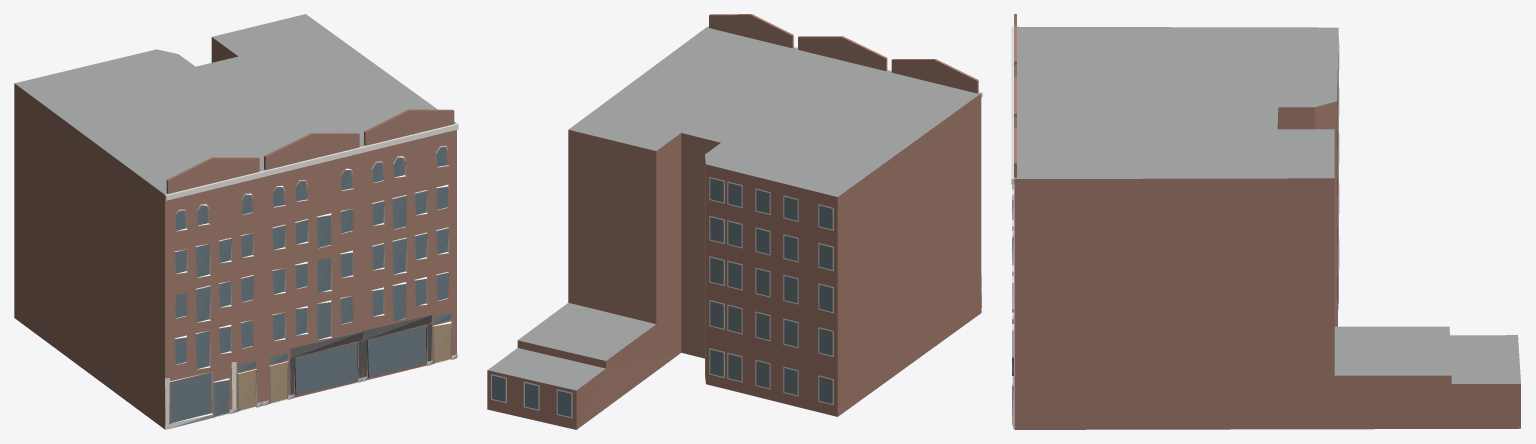
File: chunk-face-bilder-233645-236975.lod2.glb
3 renders of one model, left to right at view 1: azimuth 30°, elevation 25°; view 2: azimuth 150°, elevation 25°; view 3: azimuth 270°, elevation 25°, orthographic. The views are drawn at different scales.
Visible parts, largest first — view 1: lod2; view 2: lod2; view 3: lod2.
Part boxes in pixels (x1,y1,x2,y2): lod2: (14,14,458,429); lod2: (487,14,982,429); lod2: (1011,14,1520,429).
Bounding box in the file's own units: 21.46 × 18.21 × 30.37.
